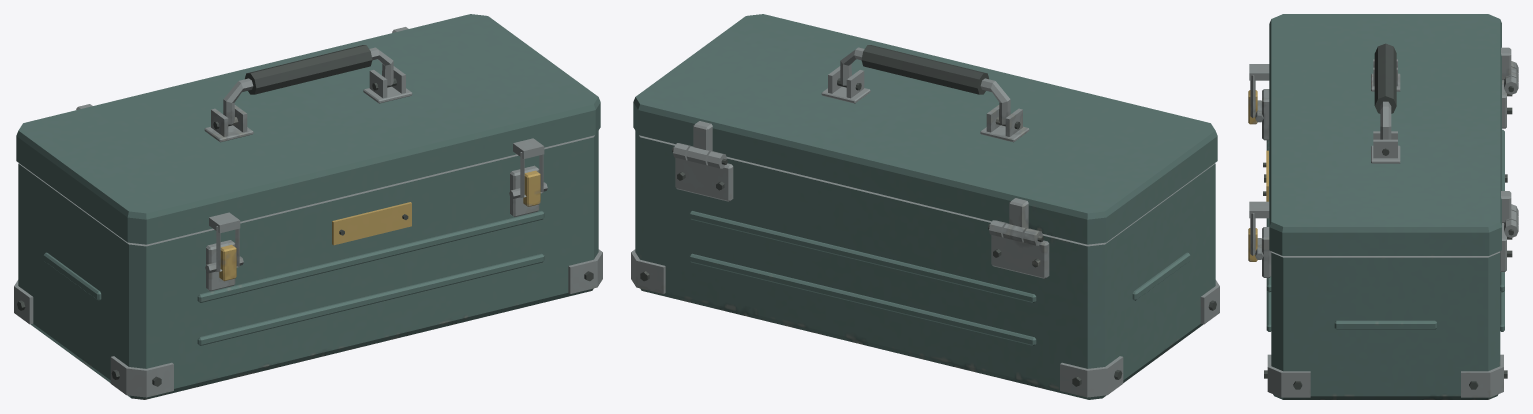
The model's file is lake_boat_toolkit_toolbox.glb.
3 views of the same model, side by side, from view 1: azimuth 30°, elevation 25°; view 2: azimuth 150°, elevation 25°; view 3: azimuth 270°, elevation 25° (orthographic). The views are drawn at different scales.
Visible parts, largest first — view 1: BoatToolkitToolbox; view 2: BoatToolkitToolbox; view 3: BoatToolkitToolbox.
Boxes of the visible parts, box(x1,y1,x2,y2) form: BoatToolkitToolbox: box(14, 14, 602, 399); BoatToolkitToolbox: box(631, 14, 1219, 399); BoatToolkitToolbox: box(1248, 14, 1518, 399).
Size of the model in its own units: 0.566 by 0.278 by 0.295.
1 material, 1 textured.
